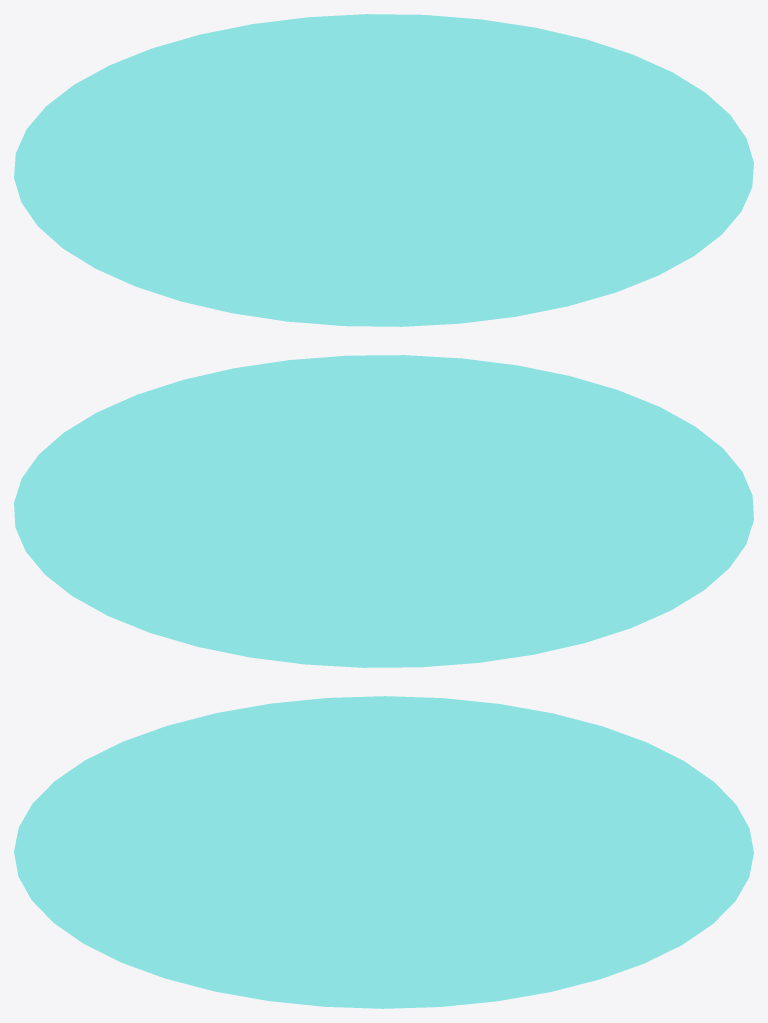
File: original-12.obj
3 views of the same model, one above another, from view 1: azimuth 30°, elevation 25°; view 2: azimuth 150°, elevation 25°; view 3: azimuth 270°, elevation 25° (orthographic).
Visible parts, largest first — view 1: mesh14/mesh14-geometry#mesh14-geometry; view 2: mesh14/mesh14-geometry#mesh14-geometry; view 3: mesh14/mesh14-geometry#mesh14-geometry.
Part boxes in pixels (x1,y1,x2,y2): mesh14/mesh14-geometry#mesh14-geometry: (14,14,753,326); mesh14/mesh14-geometry#mesh14-geometry: (14,355,753,667); mesh14/mesh14-geometry#mesh14-geometry: (14,696,753,1008).
Bounding box in the file's own units: 0.3006 × 0 × 0.3006.
